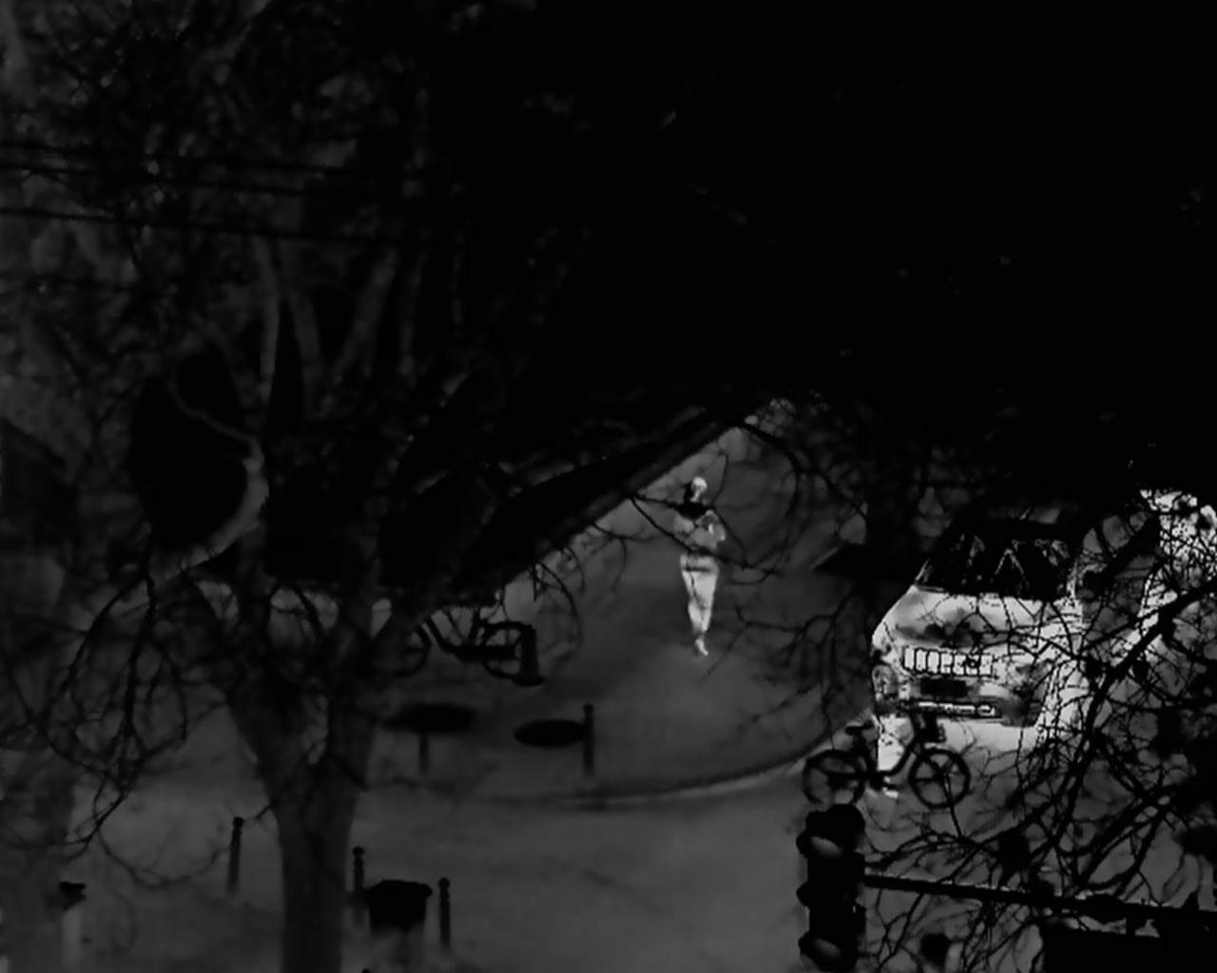person: (670, 478, 724, 658), (870, 644, 911, 800)
